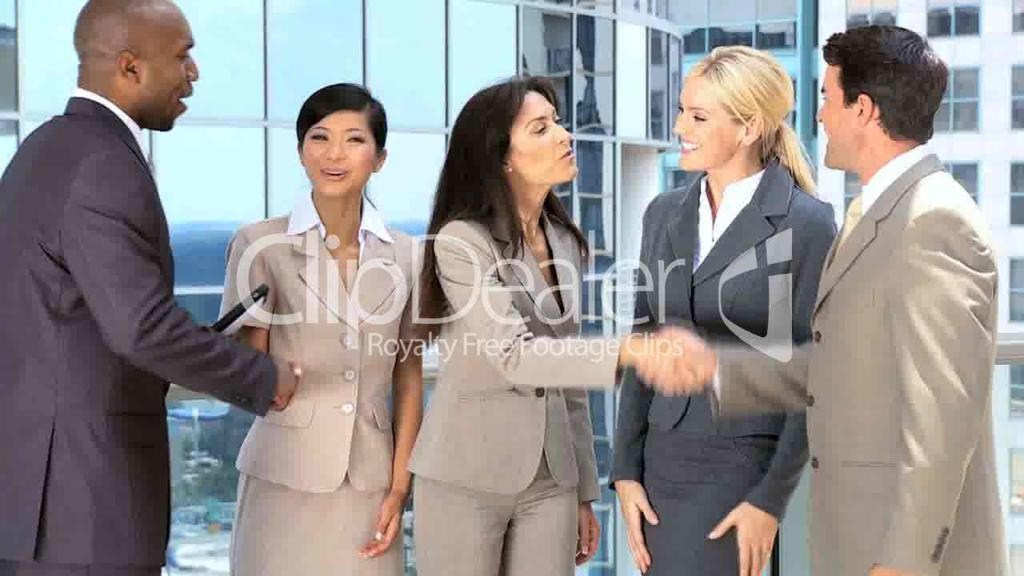face: (141, 23, 198, 131), (301, 113, 376, 195), (503, 101, 577, 180), (674, 85, 742, 170), (819, 75, 869, 166)
